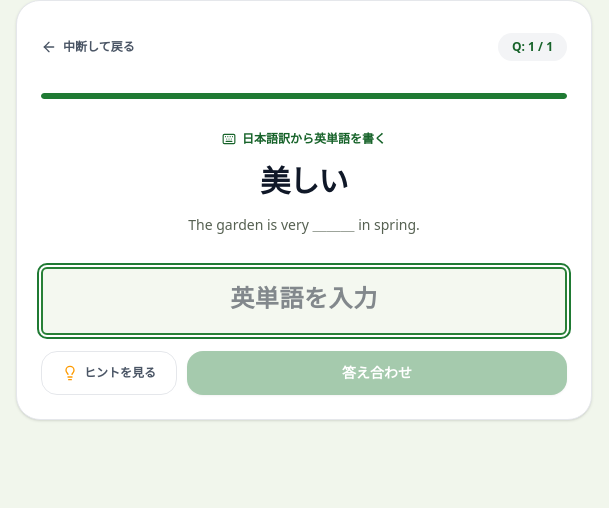
Test case: ヒント › 最初の1文字と長さだけを見せる
Step 1. Click the button with id "btn_spelling_hint" → (109, 373), box x1=41 y1=351 x2=177 y2=395
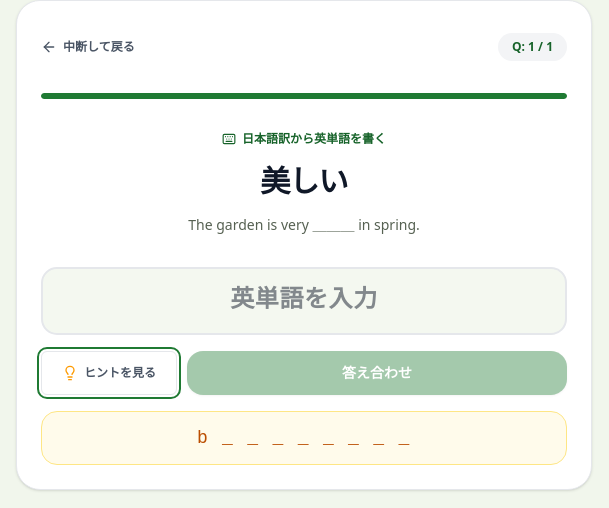
Now the text "b _ _ _ _ _ _ _ _" is shown, box x1=41 y1=411 x2=567 y2=465
